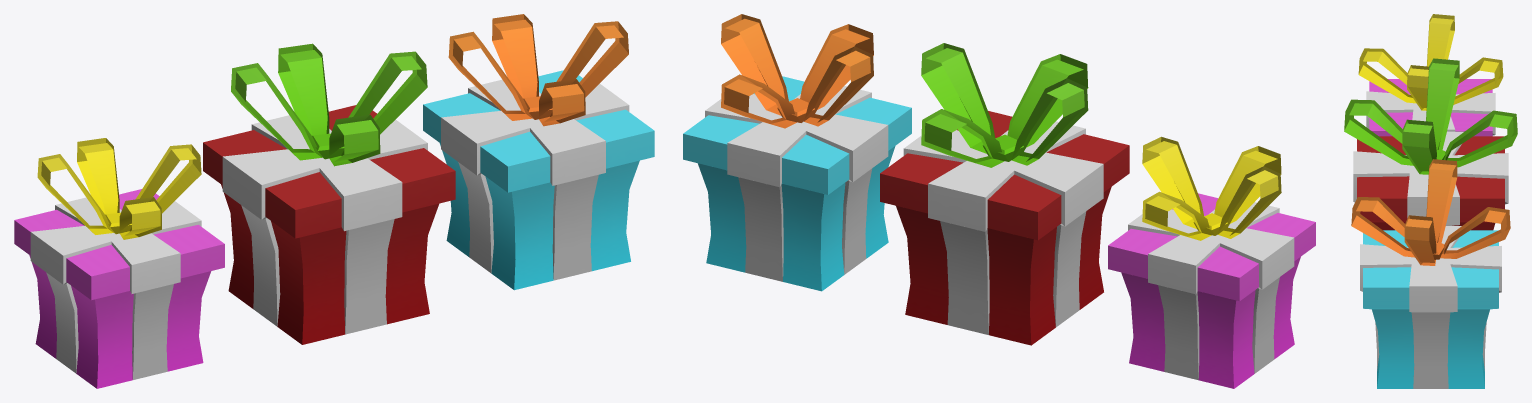
Rendered from Gifts.glb.
The picture shows the model from 3 angles, left to right: view 1: azimuth 30°, elevation 25°; view 2: azimuth 150°, elevation 25°; view 3: azimuth 270°, elevation 25°; orthographic projection. The views are drawn at different scales.
Parts seen in each view (by area): view 1: Decor1, Decor1.002, Decor1.001; view 2: Decor1, Decor1.002, Decor1.001; view 3: Decor1.002, Decor1, Decor1.001.
Boxes of the visible parts, x1,y1,x2,y2 form: Decor1: [203, 43, 455, 344]; Decor1.002: [423, 14, 654, 290]; Decor1.001: [14, 138, 224, 388]; Decor1: [880, 43, 1129, 345]; Decor1.002: [683, 14, 911, 291]; Decor1.001: [1108, 136, 1315, 388]; Decor1.002: [1351, 159, 1510, 388]; Decor1: [1344, 58, 1517, 230]; Decor1.001: [1358, 14, 1503, 136].
Size of the model in its own units: 1.09 by 0.4416 by 0.3585.
1 material, 1 textured.
